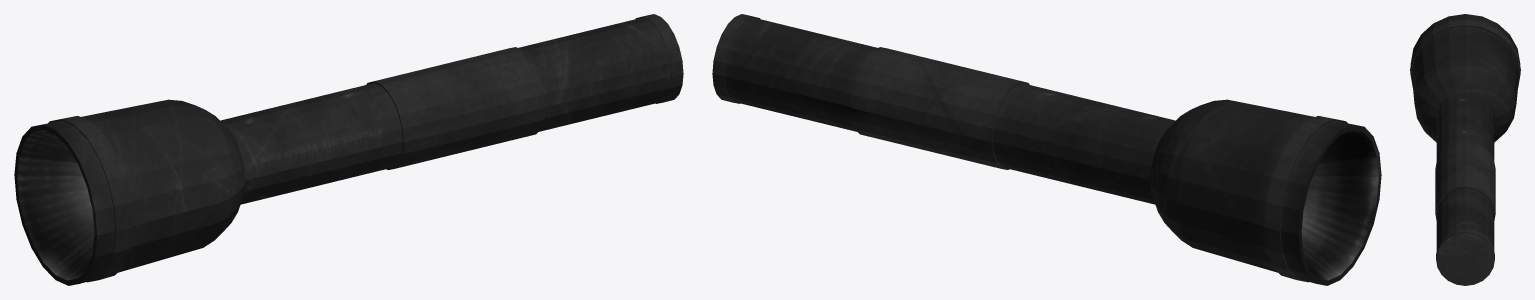
Rendered from LINTERNAFBX.fbx.
3 renders of one model, left to right at view 1: azimuth 30°, elevation 25°; view 2: azimuth 150°, elevation 25°; view 3: azimuth 270°, elevation 25°, orthographic. The views are drawn at different scales.
Visible parts, largest first — view 1: Sphere; view 2: Sphere; view 3: Sphere.
Part boxes in pixels (x1=…): Sphere: x1=14, y1=14, x2=683, y2=285; Sphere: x1=712, y1=14, x2=1381, y2=285; Sphere: x1=1410, y1=14, x2=1520, y2=285.
Bounding box in the file's own units: 8.89 × 2.13 × 2.13.
Materials: 1 (1 with a texture image).
